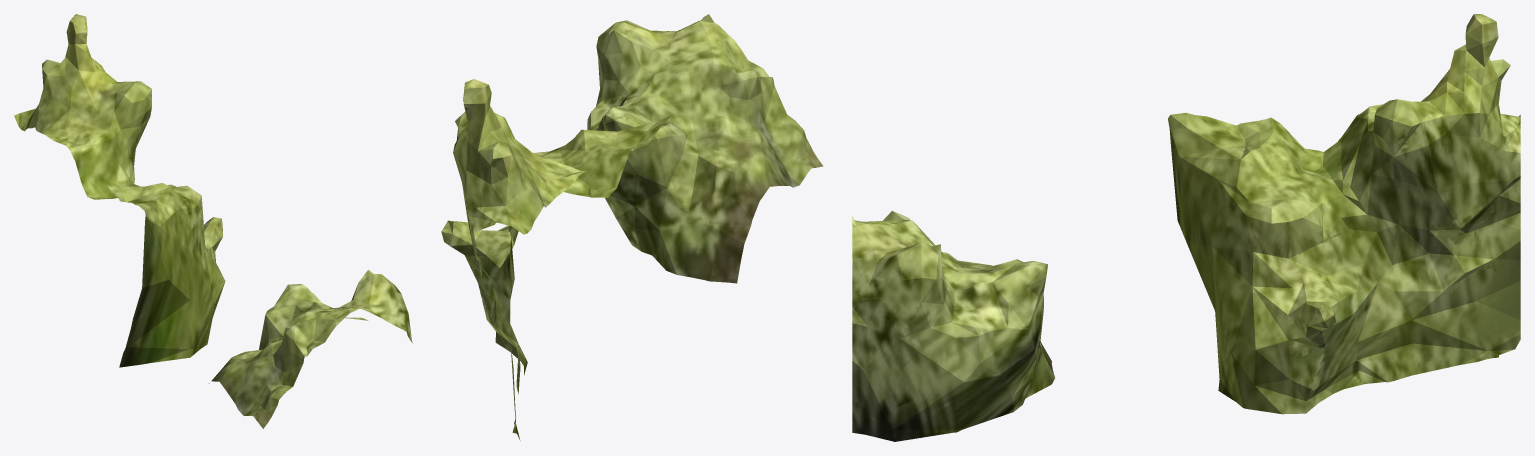
3 renders of one model, left to right at view 1: azimuth 30°, elevation 25°; view 2: azimuth 150°, elevation 25°; view 3: azimuth 270°, elevation 25°, orthographic. The views are drawn at different scales.
Bounding box in the file's own units: 1.09 × 1.78 × 2.95.
Materials: 2 (2 with a texture image).
